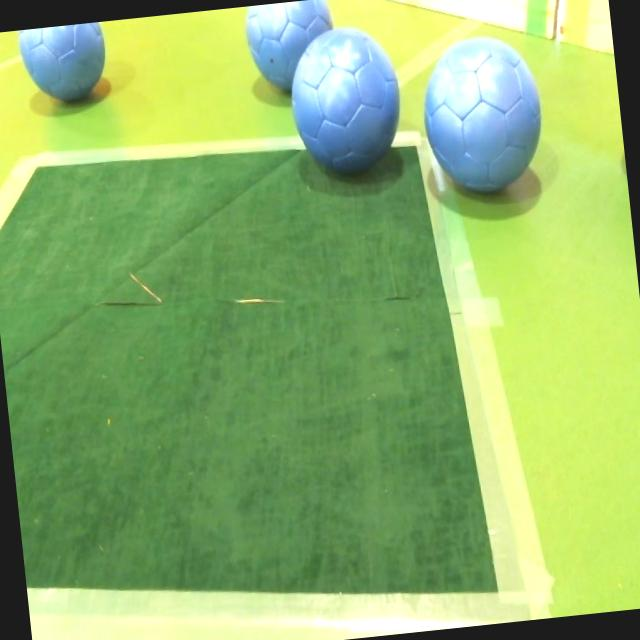blue_ball: (420, 35, 548, 196), (286, 23, 408, 182), (239, 0, 340, 97), (15, 21, 113, 110)
